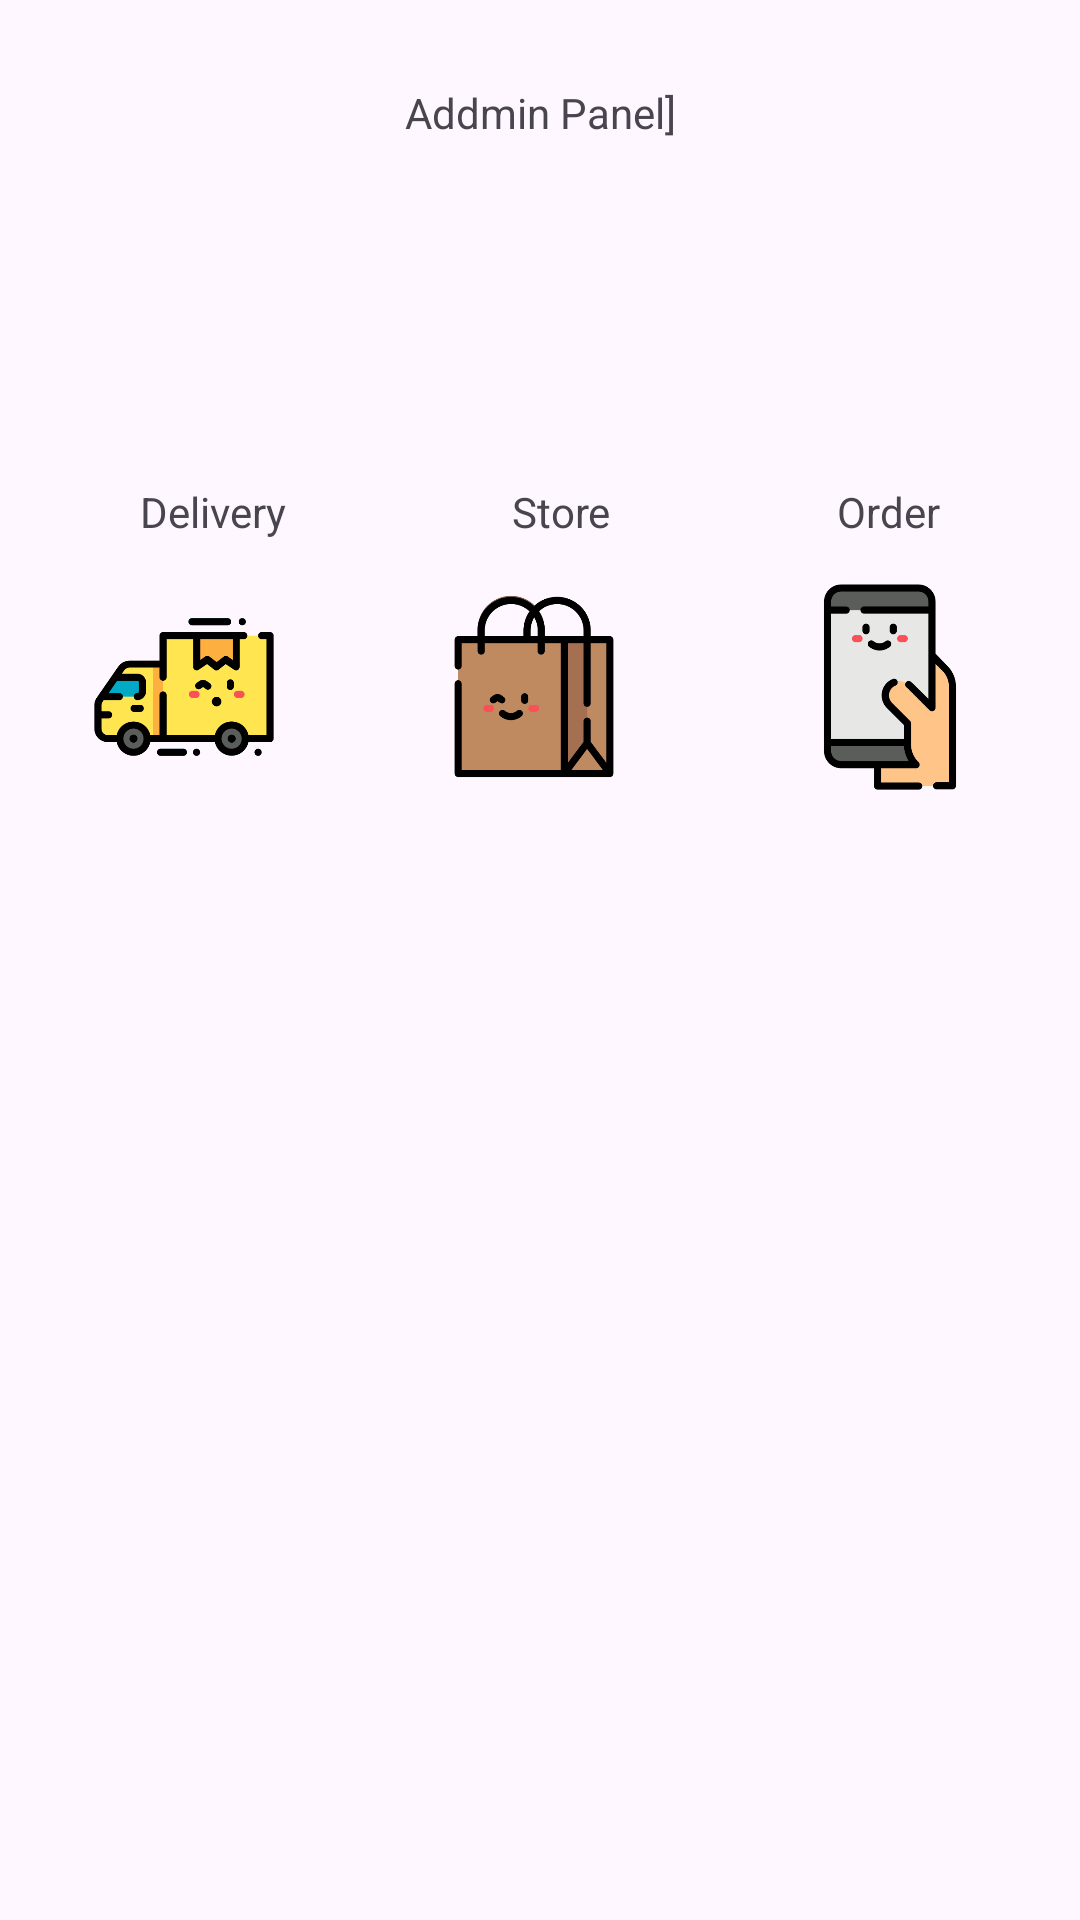

Icons on this 1080 x 1920 Android screen, each with its box as (x1, y1, x2, y2):
shopping bag: (454, 596, 614, 777)
smartphone: (824, 584, 956, 790)
